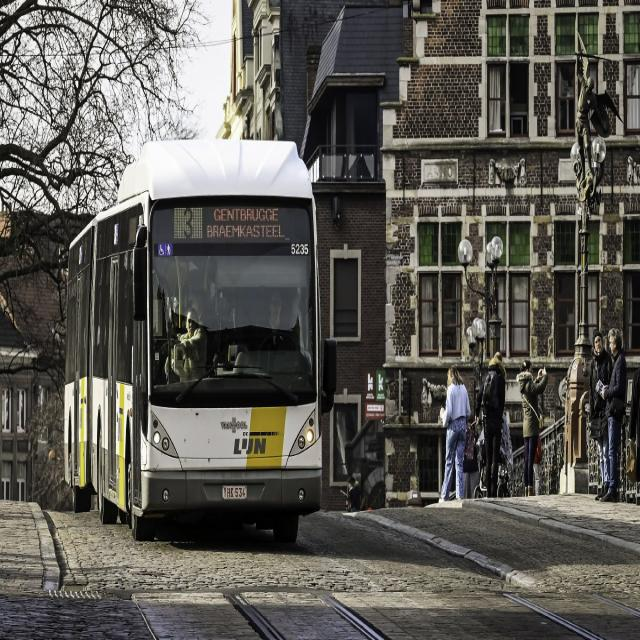bus-number: (174, 207, 202, 239)
